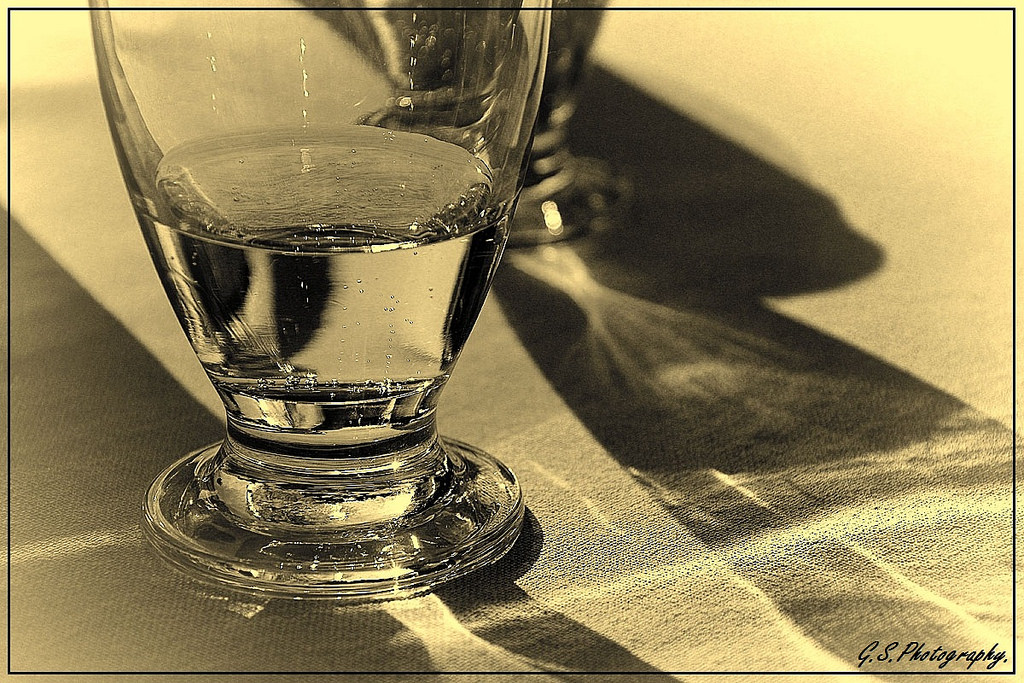glass of water: (132, 74, 496, 602)
